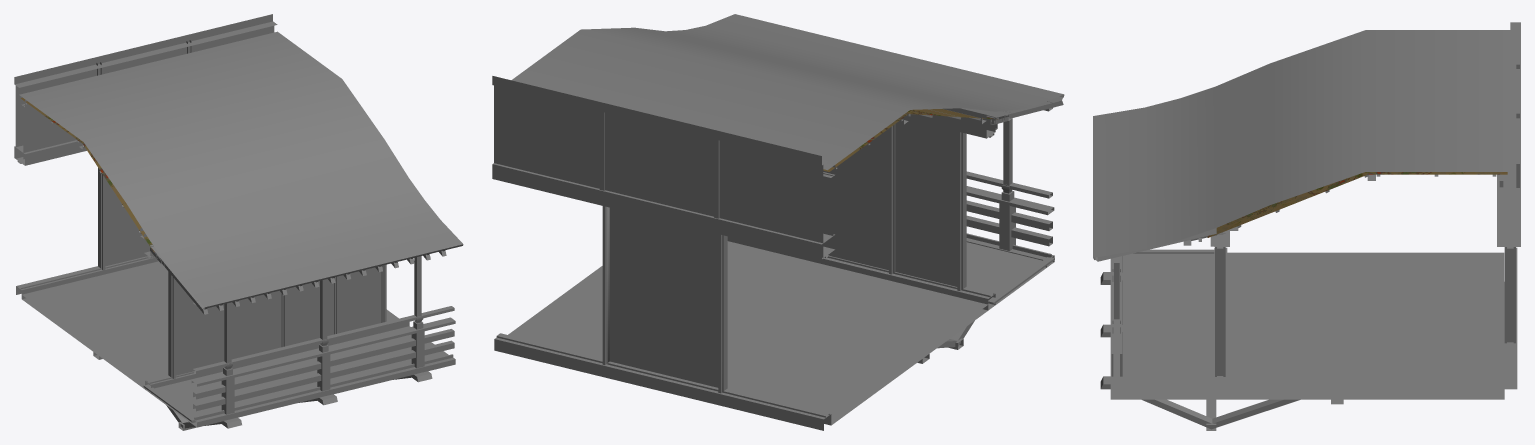
Rendered from FL4_Balcony.fbx.
3 renders of one model, left to right at view 1: azimuth 30°, elevation 25°; view 2: azimuth 150°, elevation 25°; view 3: azimuth 270°, elevation 25°, orthographic. The views are drawn at different scales.
Visible parts, largest first — view 1: FL4_Balcony; view 2: FL4_Balcony; view 3: FL4_Balcony.
Part boxes in pixels (x1,y1,x2,y2): FL4_Balcony: [14, 14, 463, 430]; FL4_Balcony: [492, 14, 1064, 430]; FL4_Balcony: [1093, 22, 1520, 430].
Size of the model in its own units: 510 by 477 by 637.
